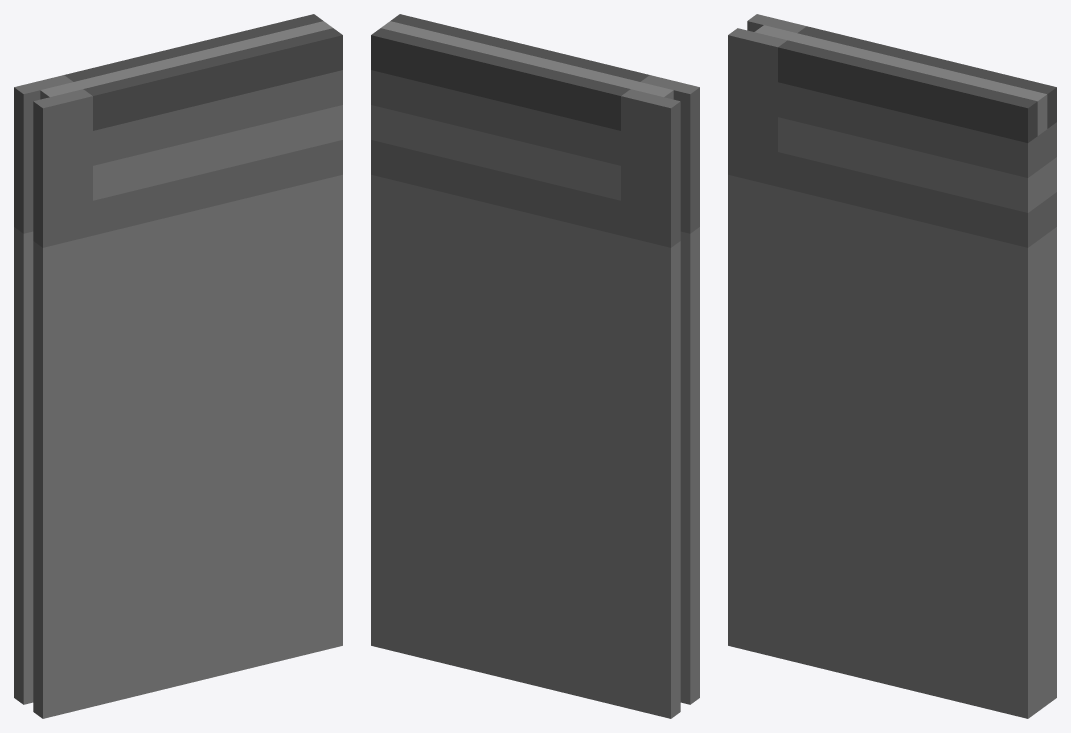
File: Door Right.obj
3 views of the same model, side by side, from view 1: azimuth 30°, elevation 25°; view 2: azimuth 150°, elevation 25°; view 3: azimuth 330°, elevation 25° (orthographic).
Bounding box in the file's own units: 18 × 35 × 3.
Materials: 1 (1 with a texture image).
